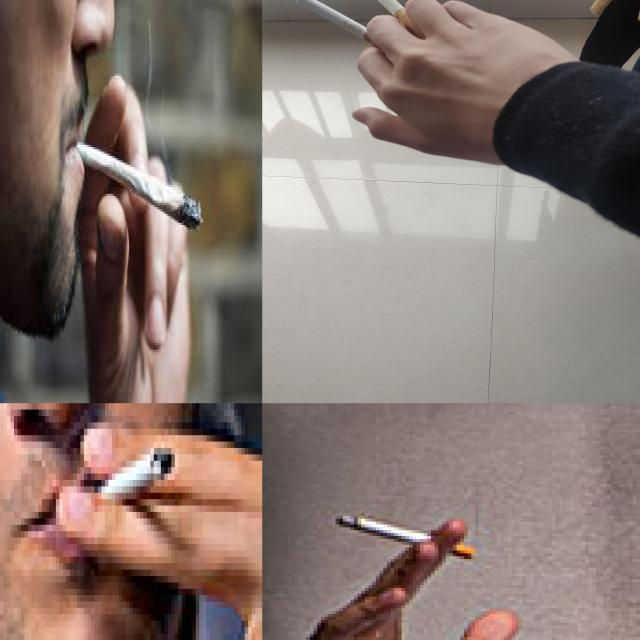smoking: (76, 142, 204, 232), (328, 507, 475, 559), (296, 0, 392, 55), (94, 442, 178, 486), (350, 0, 425, 39)
